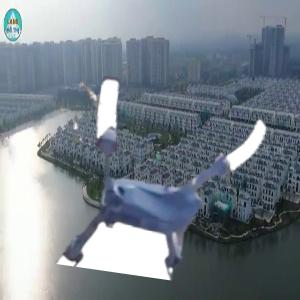drone: (67, 76, 272, 281)
